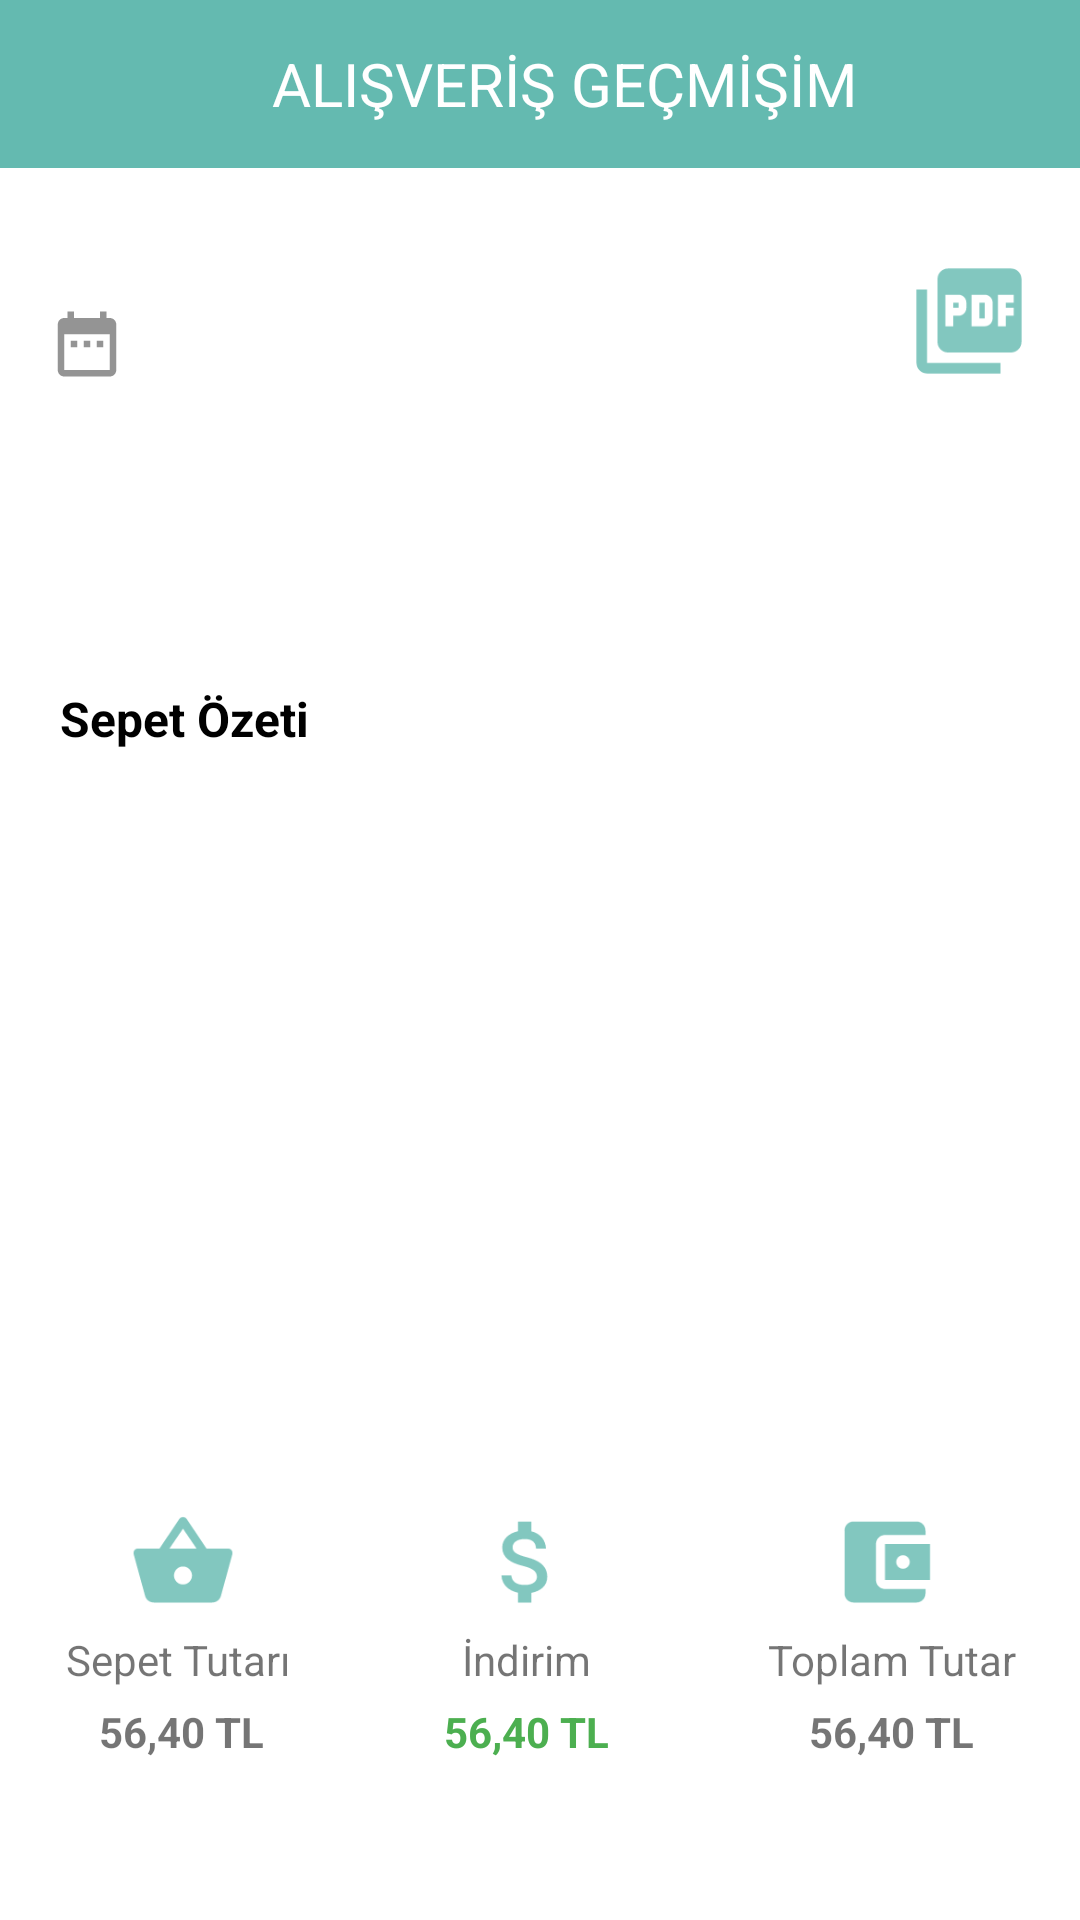

Icons on this 1080w x 1920h Android screen, each with the point to tap as (x,y):
account balance wallet: (887,1562)
attach money: (524,1562)
date range: (87,344)
picture as pdf: (969,321)
shopping basket: (183,1560)
